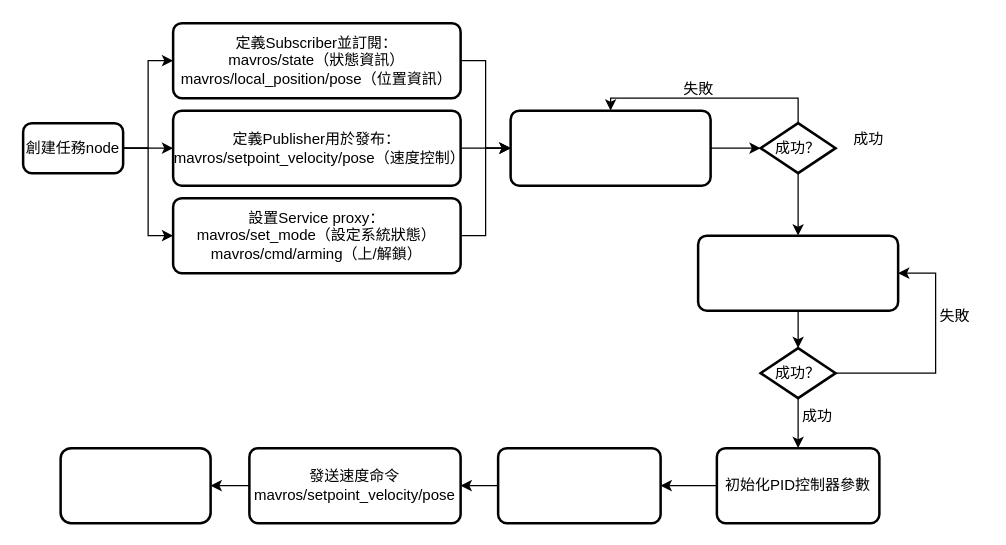
Image size: 1006x545. Some labels were removed from this diagram. The box of each missing label's shape, as (x1, y1, x2, y2) in pixels:
PID控制器: (496, 446, 661, 524)
檢查無人機是否連接成功: (509, 109, 711, 186)
無人機到達終點: (59, 446, 211, 524)
設定飛行模式 OFFBOARD 設定arming為True 解鎖: (696, 234, 899, 311)
